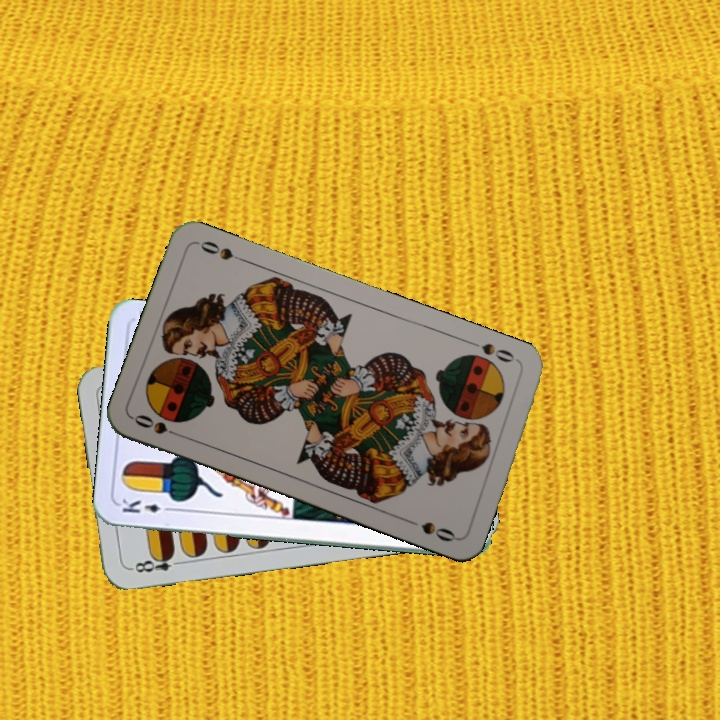E8: (126, 549, 186, 575)
EK: (118, 493, 177, 516)
SO: (129, 410, 187, 441), (467, 337, 523, 367)
